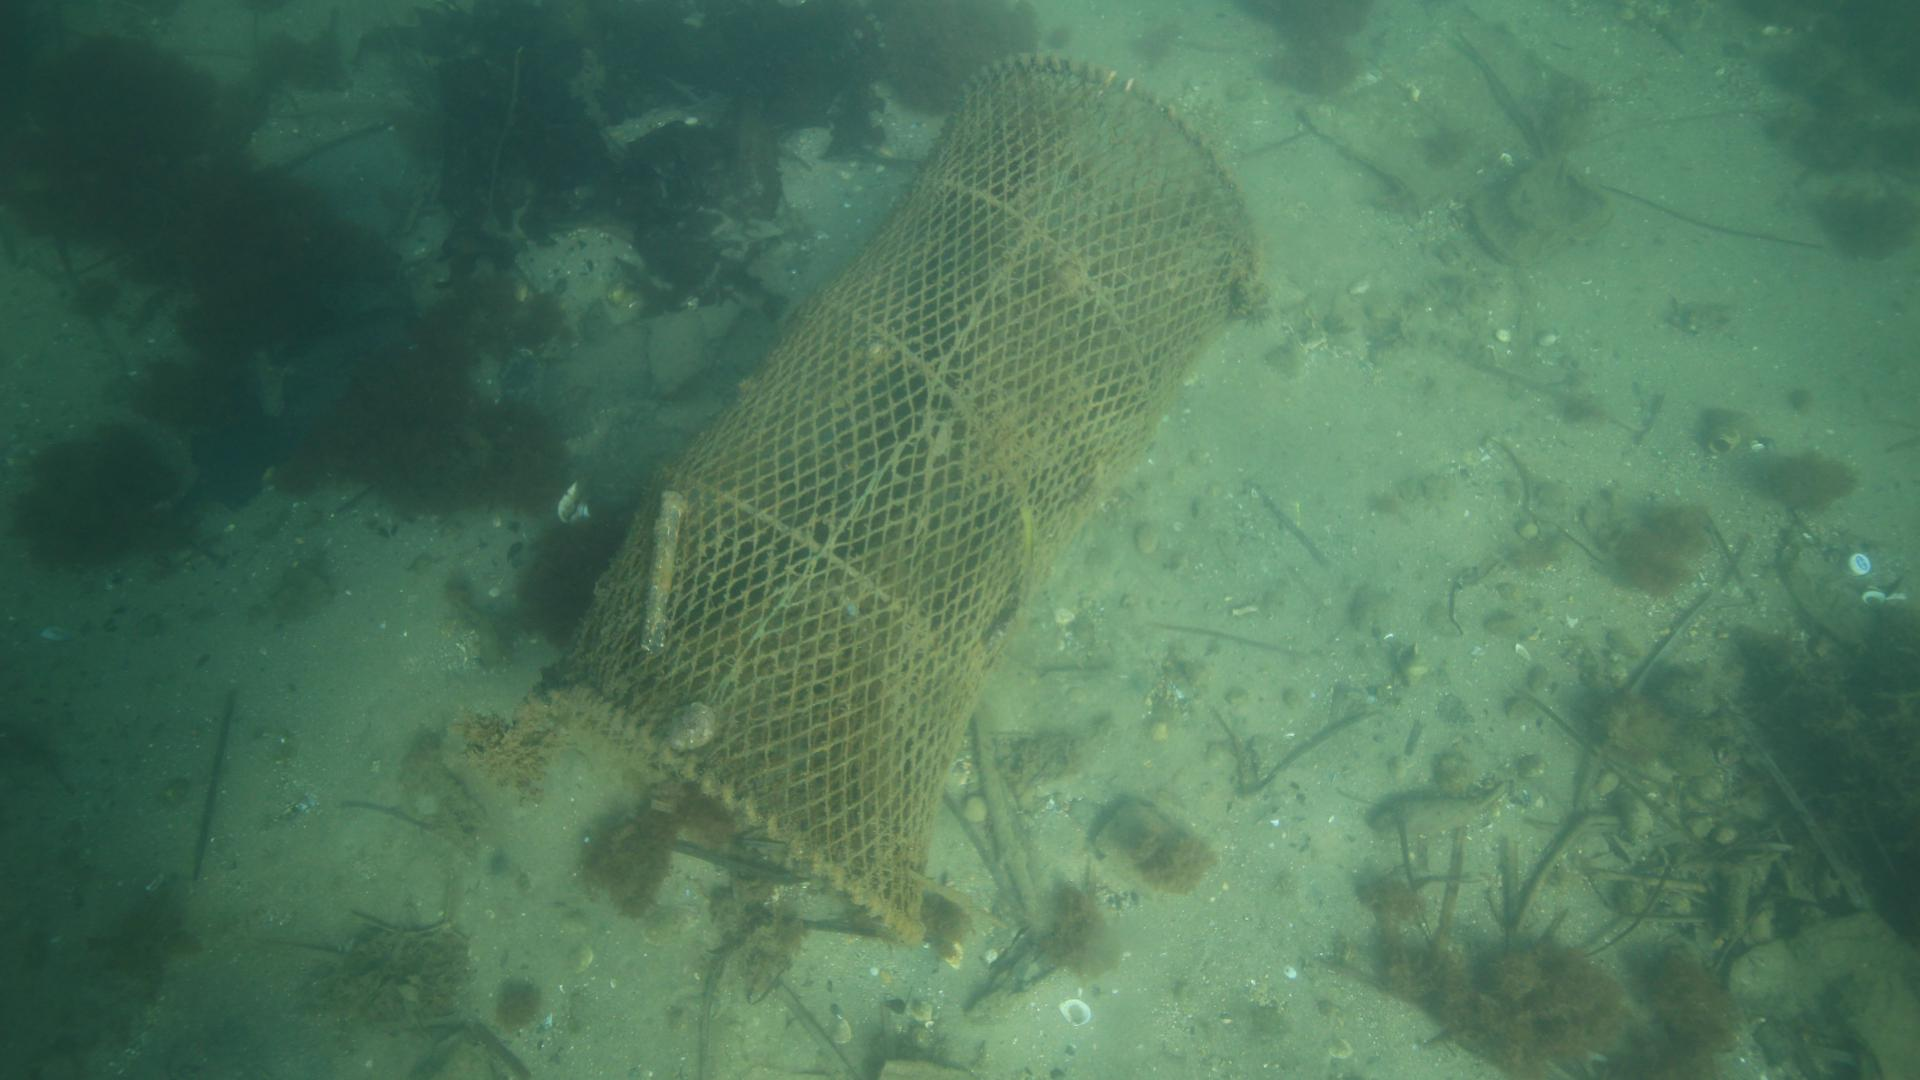spring fish trap: (560, 54, 1259, 947)
